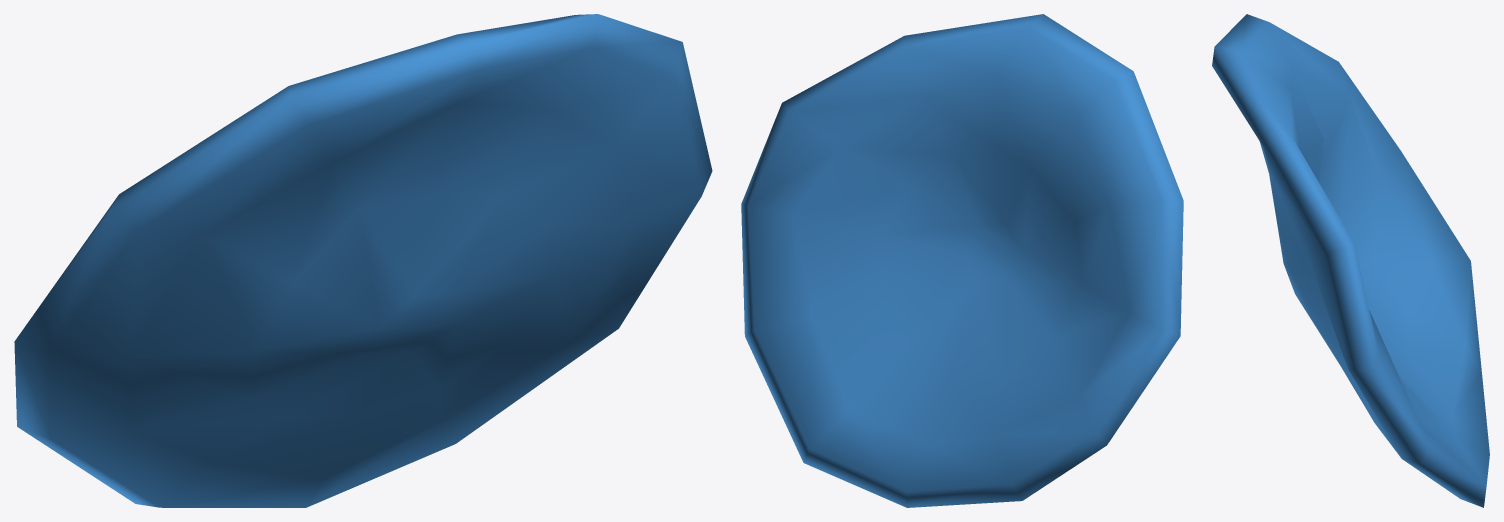
The model's file is coral05b.fbx.
The picture shows the model from 3 angles, left to right: view 1: azimuth 30°, elevation 25°; view 2: azimuth 150°, elevation 25°; view 3: azimuth 270°, elevation 25°; orthographic projection. The views are drawn at different scales.
Parts seen in each view (by area): view 1: Coral05b; view 2: Coral05b; view 3: Coral05b.
Boxes of the visible parts, x1,y1,x2,y2 form: Coral05b: (14,14,712,507); Coral05b: (741,14,1183,507); Coral05b: (1212,14,1489,507).
Size of the model in its own units: 238 by 202 by 120.
